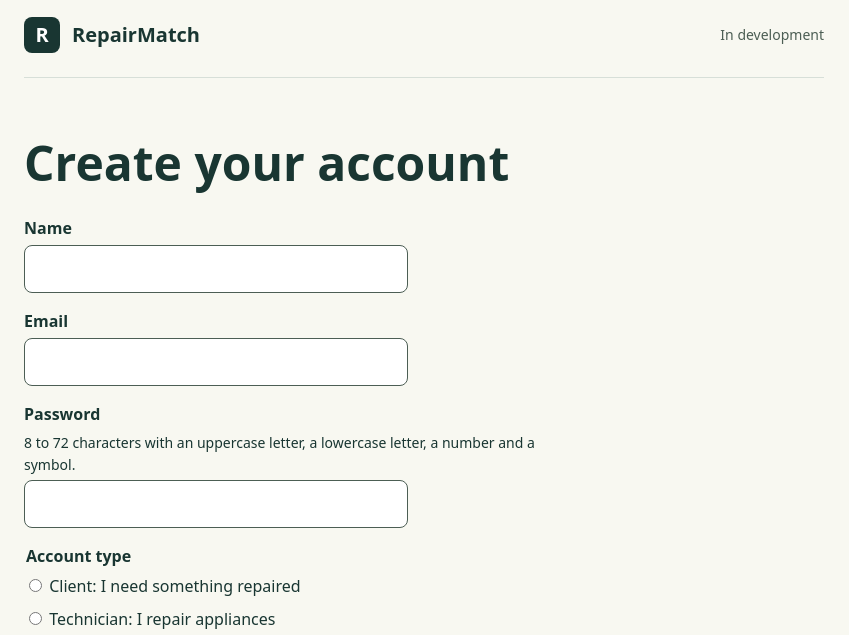
register form › applies the backend password rules
Type "Test Client" into the field labelled "Name". click: coordinates (216, 269)
box: [24, 245, 408, 293]
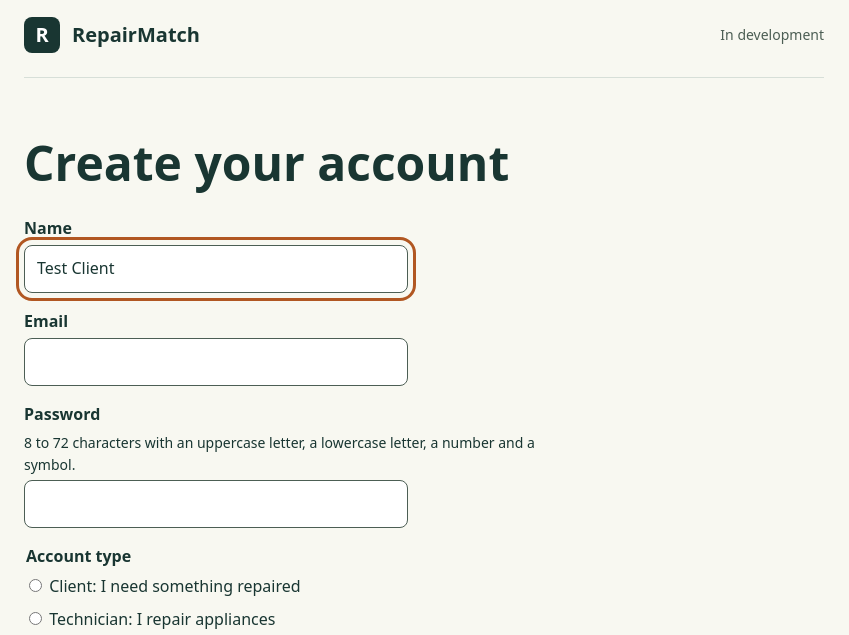
Type "client@example.test" into the field labelled "Email". click: coordinates (216, 362)
box: [24, 338, 408, 386]
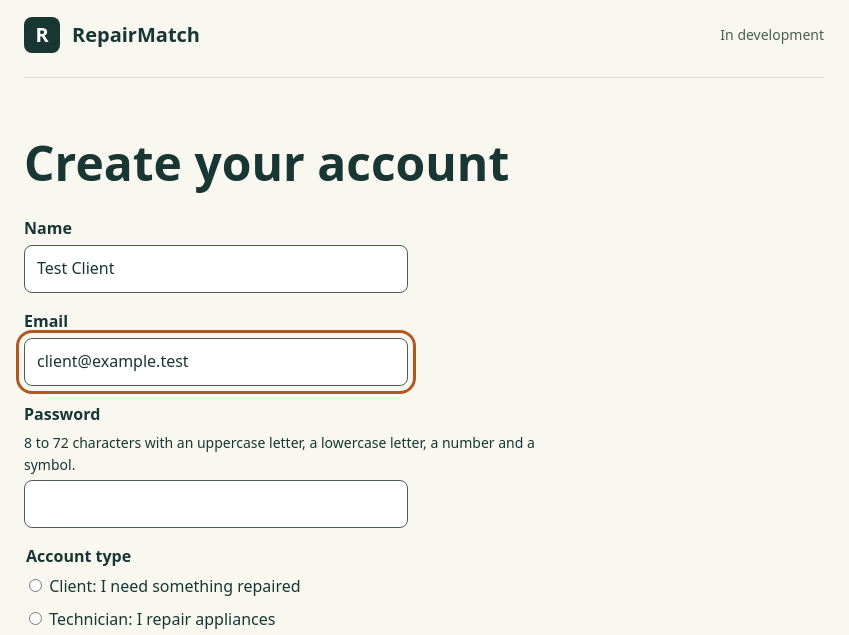
Type "alllowercase1" into the password field labelled "Password". click: coordinates (216, 504)
box: [24, 480, 408, 528]
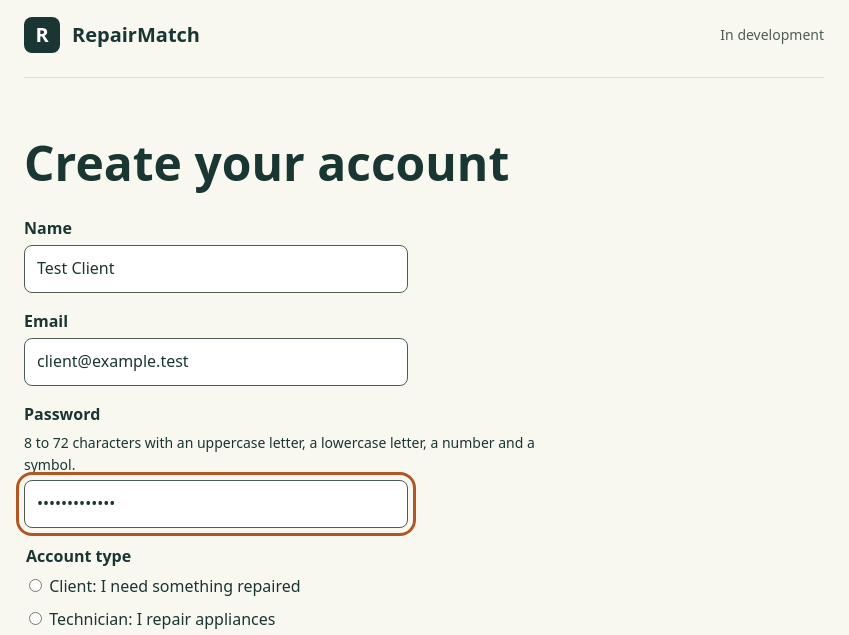
Click the radio button labelled "Client: I need something repaired". click: coordinates (36, 585)
box: [29, 578, 42, 592]
(page scrolled)
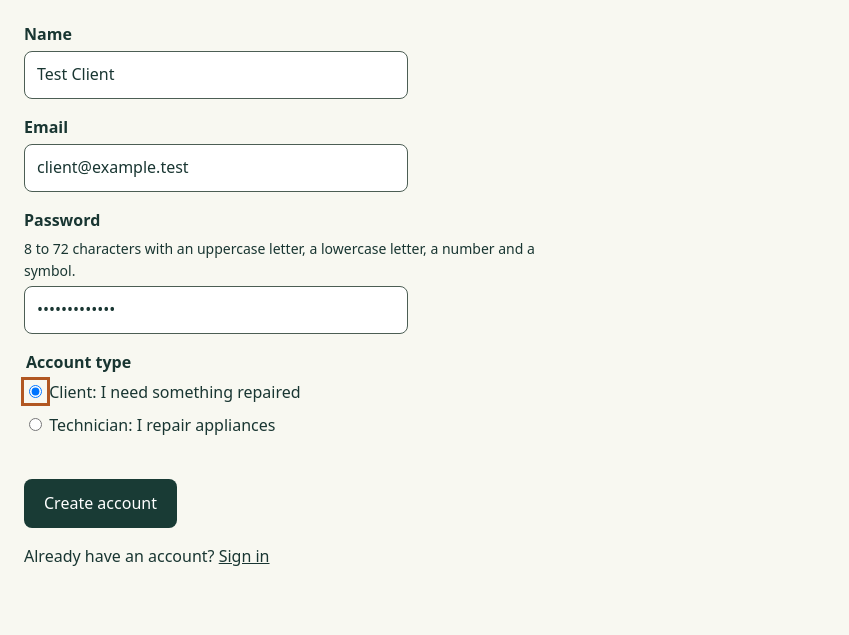
Click the button "Create account". click: coordinates (100, 504)
box: [24, 479, 177, 528]
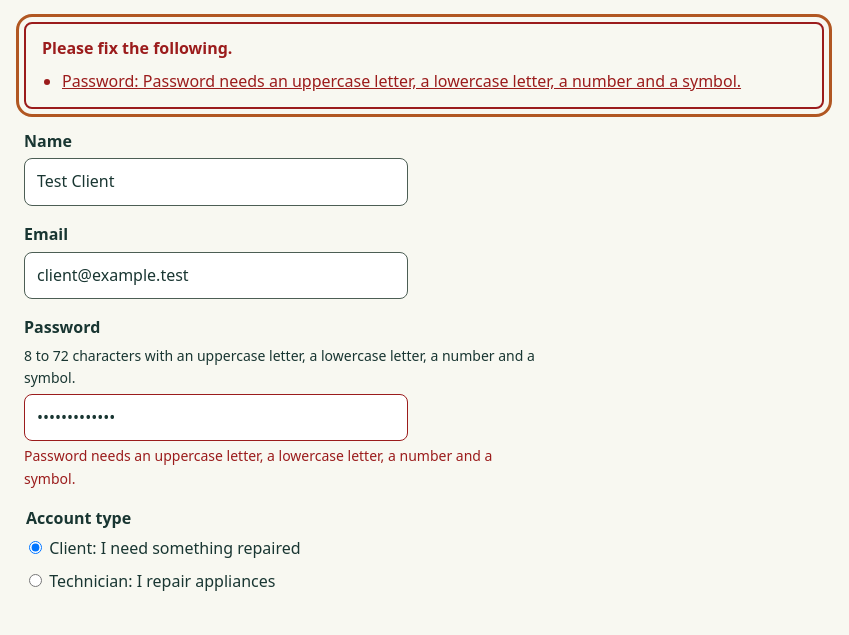
Check: the message shows "Password needs an uppercase letter, a lowercase letter, a number and a symbol.", box [62, 70, 741, 92]
